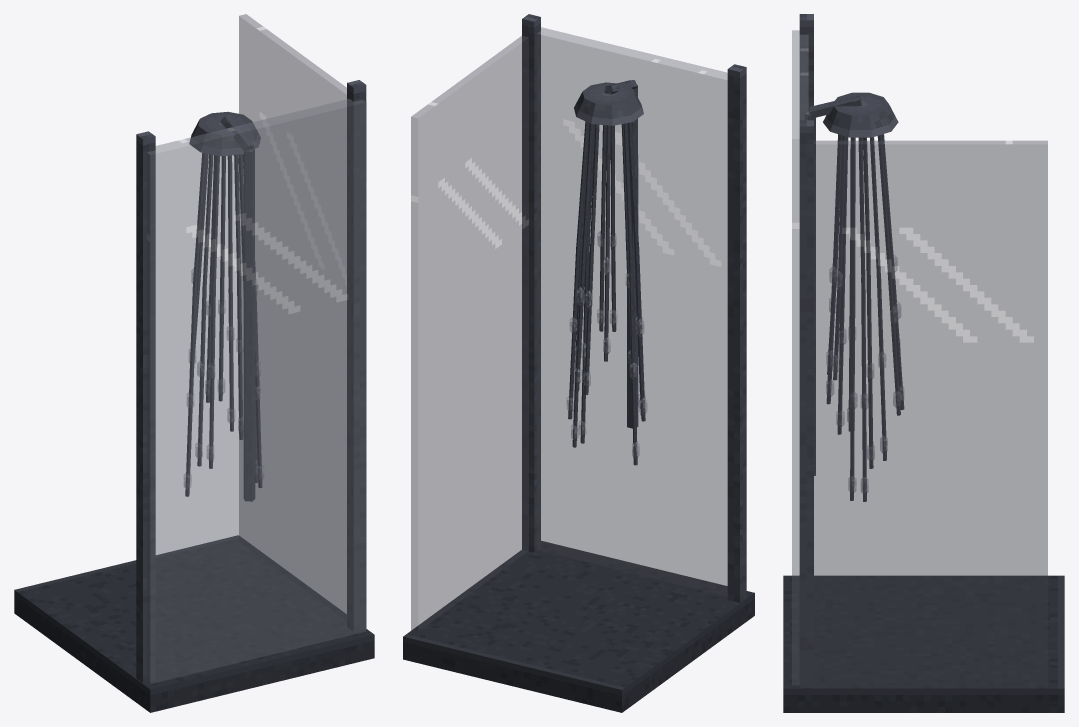
File: f_vitrified_shower.glb
The picture shows the model from 3 angles, left to right: view 1: azimuth 30°, elevation 25°; view 2: azimuth 150°, elevation 25°; view 3: azimuth 270°, elevation 25°; orthographic projection. The views are drawn at different scales.
Parts seen in each view (by area): view 1: block_translucent-shower-back, block_translucent-shower-side, block_dark-glass-drain-tray, block_black-glass-enclosure-jamb (×2), block_black-glass-shower-stream-2 (×7), block_glass-shower-riser-1, block_black-glass-shower-stream-1 (×4), block_porous-shower-head; view 2: block_translucent-shower-back, block_translucent-shower-side, block_dark-glass-drain-tray, block_black-glass-enclosure-jamb (×2), block_black-glass-shower-stream-2 (×7), block_black-glass-shower-stream-1 (×6), block_porous-shower-head, block_glass-shower-riser-1; view 3: block_translucent-shower-side, block_dark-glass-drain-tray, block_black-glass-enclosure-jamb (×2), block_black-glass-shower-stream-2 (×9), block_translucent-shower-back, block_black-glass-shower-stream-1 (×7), block_porous-shower-head, block_glass-shower-riser-1, block_glass-shower-riser-2.
Part boxes in pixels (box(x1,y1,x2,y2)): block_translucent-shower-back: box(146, 99, 366, 683); block_translucent-shower-side: box(239, 14, 366, 627); block_dark-glass-drain-tray: box(14, 535, 374, 712); block_black-glass-enclosure-jamb (×2): box(136, 80, 366, 683); block_black-glass-shower-stream-2 (×7): box(185, 265, 262, 496); block_glass-shower-riser-1: box(243, 148, 255, 501); block_black-glass-shower-stream-1 (×4): box(193, 153, 232, 289); block_porous-shower-head: box(189, 111, 260, 156); block_translucent-shower-back: box(536, 27, 727, 596); block_translucent-shower-side: box(411, 36, 528, 631); block_dark-glass-drain-tray: box(403, 541, 754, 712); block_black-glass-enclosure-jamb (×2): box(522, 14, 746, 602); block_black-glass-shower-stream-2 (×7): box(568, 236, 645, 465); block_black-glass-shower-stream-1 (×6): box(576, 121, 638, 257); block_porous-shower-head: box(574, 82, 643, 125); block_glass-shower-riser-1: box(627, 85, 638, 428); block_translucent-shower-side: box(800, 140, 1047, 687); block_dark-glass-drain-tray: box(783, 575, 1064, 712); block_black-glass-enclosure-jamb (×2): box(799, 14, 813, 687); block_black-glass-shower-stream-2 (×9): box(827, 251, 904, 501); block_translucent-shower-back: box(792, 30, 808, 685); block_black-glass-shower-stream-1 (×7): box(833, 134, 891, 277); block_porous-shower-head: box(823, 92, 898, 137); block_glass-shower-riser-1: box(804, 110, 815, 475); block_glass-shower-riser-2: box(809, 95, 861, 118).
Size of the model in its own units: 0.79 by 1.91 by 0.83.
3 materials, 3 textured.
